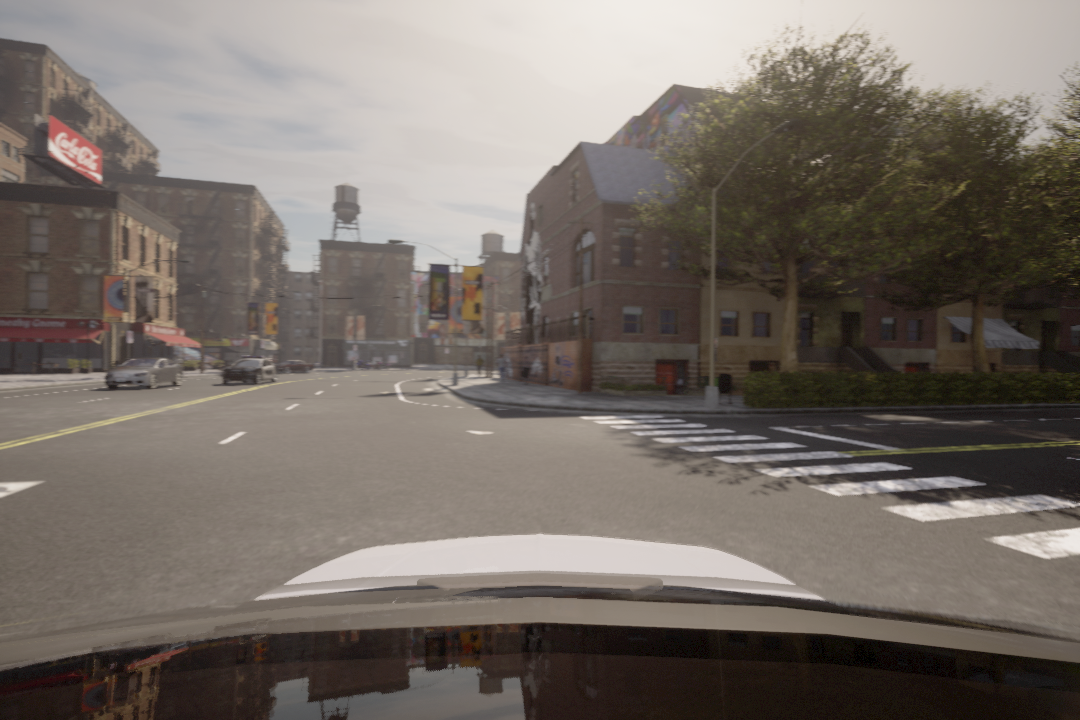walkside: (577, 413, 1080, 568)
